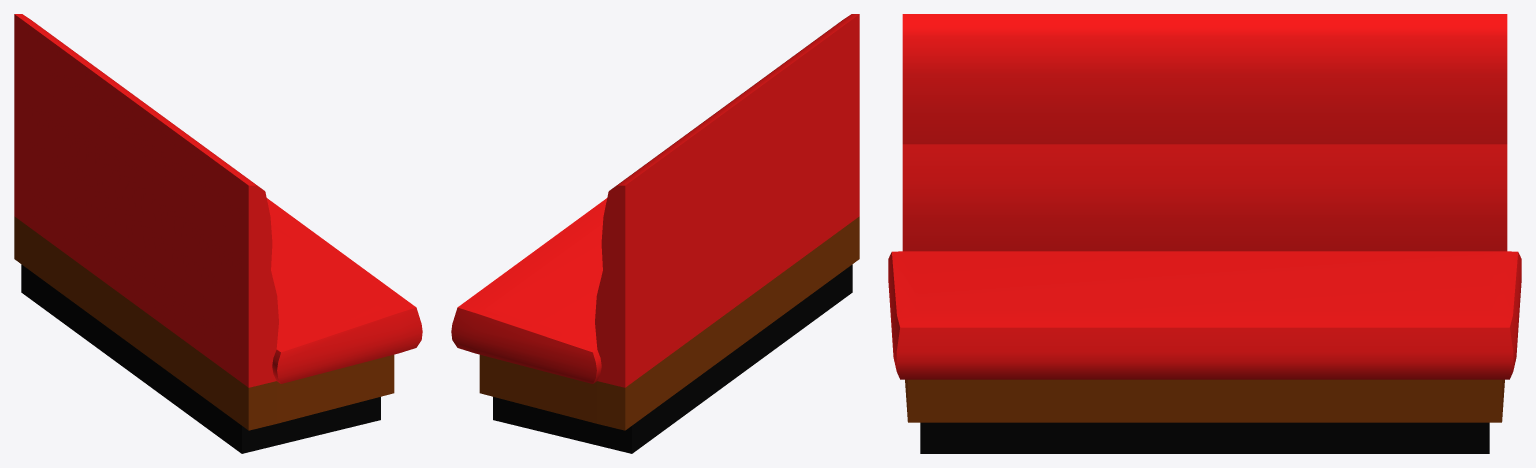
The model's file is Booth.FBX.
3 views of the same model, side by side, from view 1: azimuth 30°, elevation 25°; view 2: azimuth 150°, elevation 25°; view 3: azimuth 270°, elevation 25° (orthographic). The views are drawn at different scales.
Parts seen in each view (by area): view 1: Booth; view 2: Booth; view 3: Booth.
Part boxes in pixels (x1,y1,x2,y2): Booth: (14, 14, 422, 453); Booth: (451, 14, 859, 453); Booth: (888, 14, 1521, 453).
Size of the model in its own units: 24.77 by 37.72 by 61.44.
